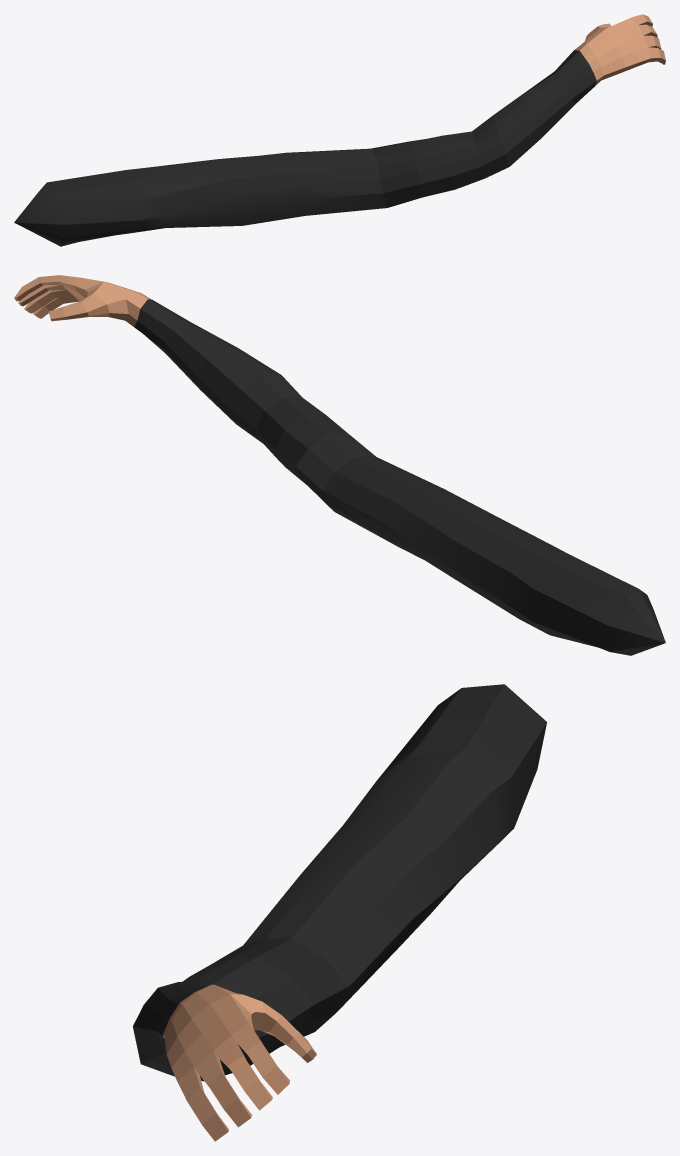
Rendered from armtest.fbx.
3 views of the same model, one above another, from view 1: azimuth 30°, elevation 25°; view 2: azimuth 150°, elevation 25°; view 3: azimuth 270°, elevation 25° (orthographic). The views are drawn at different scales.
Visible parts, largest first — view 1: Arm1; view 2: Arm1; view 3: Arm1.
Boxes of the visible parts, left/top/right/bottom form: Arm1: left=14, top=14, right=665, bottom=246; Arm1: left=14, top=275, right=665, bottom=655; Arm1: left=133, top=684, right=546, bottom=1141.
Bounding box in the file's own units: 0.0252 × 0.00583 × 0.00775.
